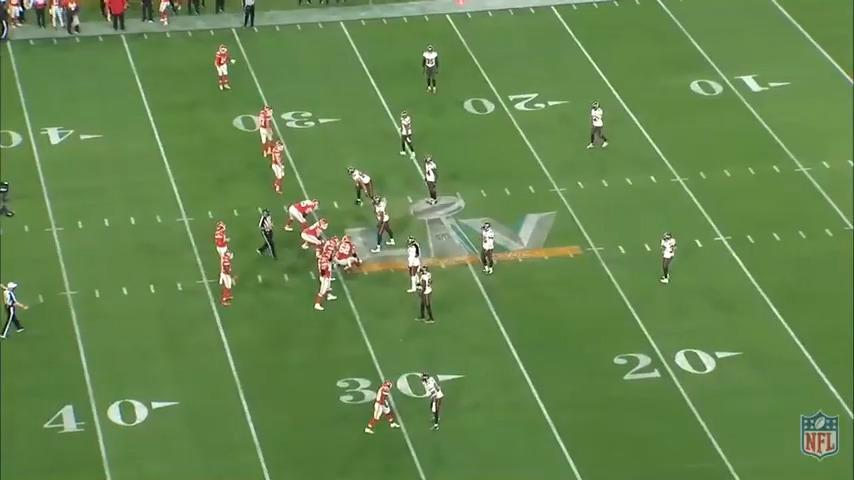defense: (421, 371, 447, 435), (373, 196, 398, 256), (418, 265, 439, 327), (405, 237, 426, 296), (587, 100, 611, 151), (349, 167, 377, 210), (478, 220, 499, 274), (657, 231, 677, 287), (420, 44, 441, 97), (422, 155, 440, 207), (400, 109, 418, 158)
oline: (312, 248, 337, 314), (315, 235, 340, 290), (283, 197, 321, 233), (337, 234, 366, 272), (302, 218, 332, 253)
qb: (214, 220, 234, 269)
ref: (0, 278, 28, 338), (256, 207, 281, 264), (238, 0, 260, 30)
skill: (365, 378, 401, 437), (212, 42, 240, 94), (254, 103, 277, 163), (216, 248, 239, 308), (269, 138, 291, 197)
